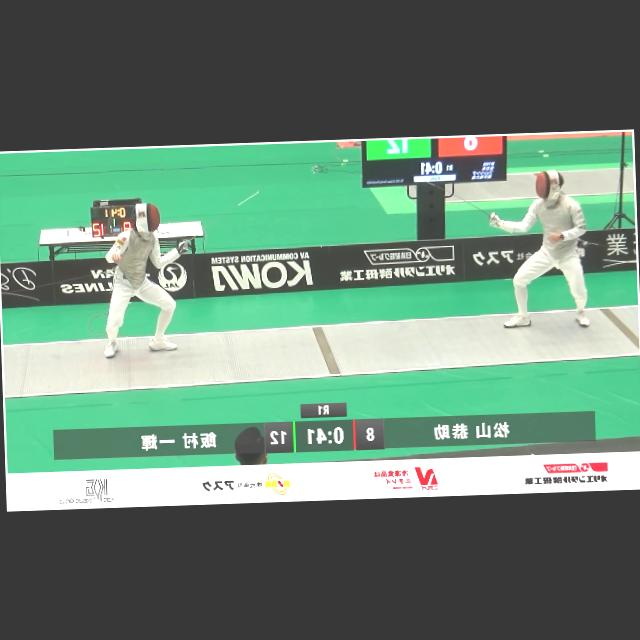blade: (175, 185, 268, 252), (412, 170, 508, 226)
